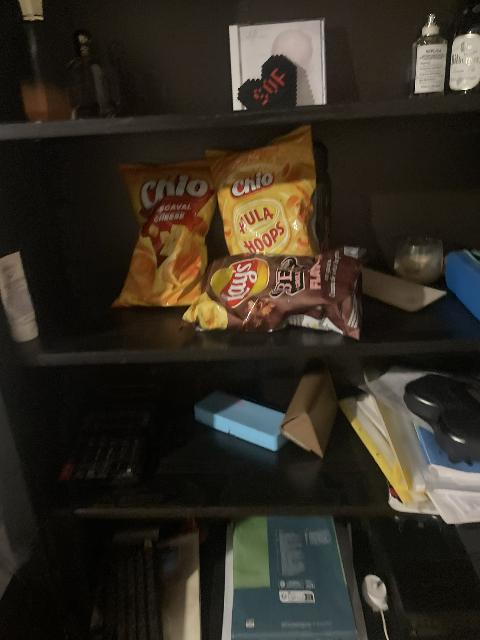Chio Cascaval 125g: (110, 158, 219, 309)
Chio Hula Hoops Cheese 70g: (209, 125, 319, 263)
Lays Beef Grilled Ribs 125g: (187, 247, 364, 336)
